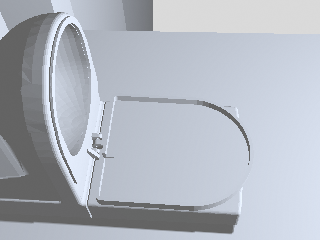lid_1: (95, 94, 253, 209)
